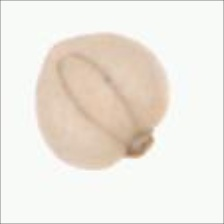L5: (57, 51, 136, 142), (39, 38, 81, 70), (124, 124, 160, 158)
L6: (32, 29, 172, 173)
